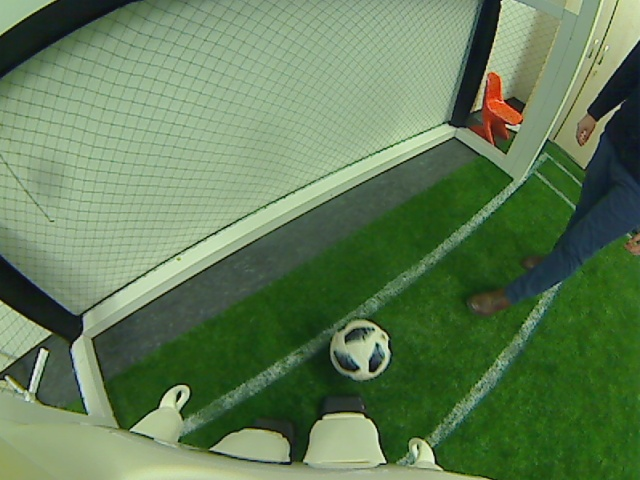ball: (330, 320, 392, 380)
